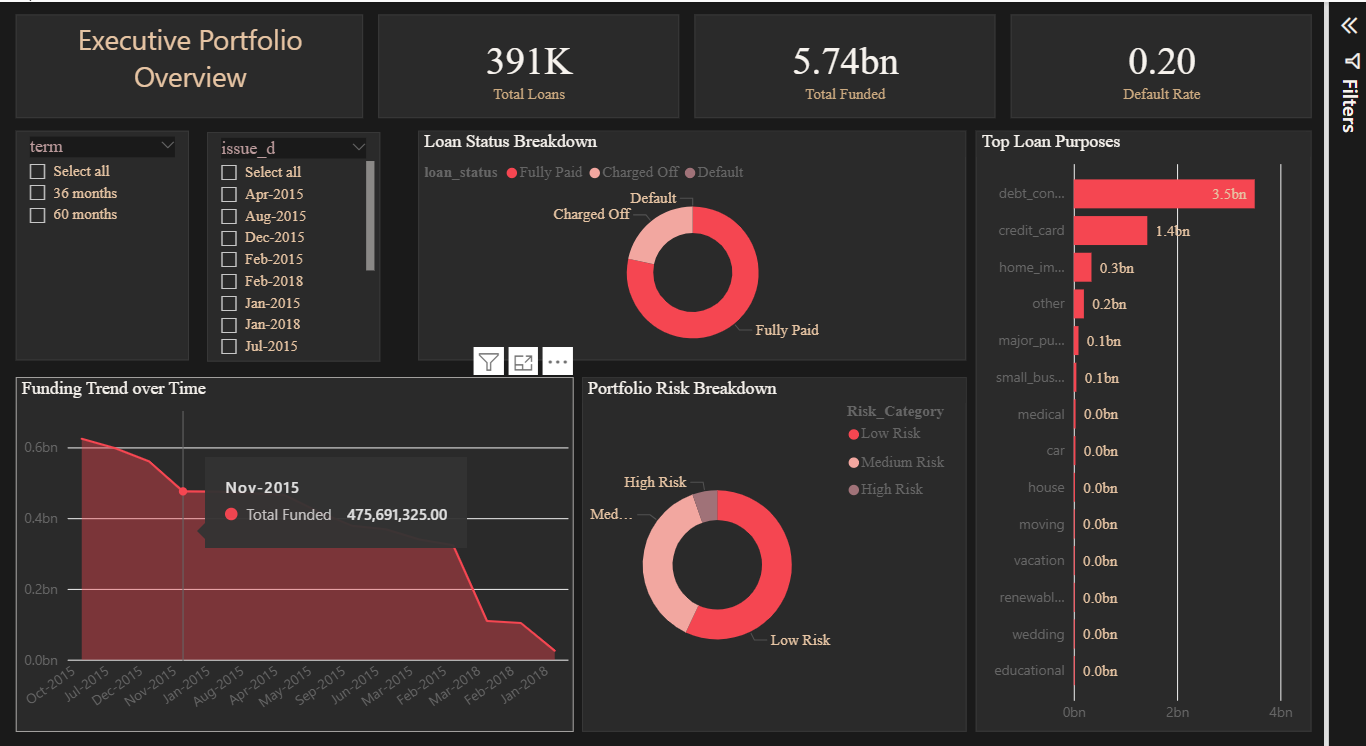

This screenshot's page, from the dashboard's own definition file:
{"tool":"powerbi","page":{"name":"Executive Portolio Overview","canvas":[1280,720],"ordinal":0},"visuals":[{"type":"textbox","box":[18,12,335,100],"z":0},{"type":"donutChart","title":"Loan Status Breakdown","fields":{"Category":["loan_portfolio.loan_status"],"Y":["Sum(loan_portfolio.loan_amnt)"]},"box":[407.1,124.3,528.6,221.4],"z":1000},{"type":"donutChart","title":"Portfolio Risk Breakdown","fields":{"Category":["loan_portfolio.Risk_Category"],"Y":["loan_portfolio.Total Loans"]},"box":[564.8,361.9,371,342.2],"z":2000},{"type":"areaChart","title":"Funding Trend over Time","fields":{"Category":["loan_portfolio.issue_d"],"Y":["loan_portfolio.Total Funded"]},"box":[18.2,361.9,537.5,342.2],"z":3000},{"type":"clusteredBarChart","title":"Top Loan Purposes","fields":{"Category":["loan_portfolio.purpose"],"Y":["loan_portfolio.Total Funded"]},"box":[945,124,324,580],"z":4000},{"type":"card","fields":{"Values":["loan_portfolio.Total Loans"]},"box":[368.1,12,290,100],"z":5000},{"type":"card","fields":{"Values":["loan_portfolio.Total Funded"]},"box":[673.1,12,290,100],"z":6000},{"type":"card","fields":{"Values":["loan_portfolio.Default Rate"]},"box":[978.2,12.1,290.7,99.9],"z":7000},{"type":"slicer","fields":{"Values":["loan_portfolio.term"]},"box":[18.6,124.3,167.1,221.4],"z":8000},{"type":"slicer","fields":{"Values":["loan_portfolio.issue_d"]},"box":[202.9,125.7,167.1,221.4],"z":9000}]}

Visuals, with their boxes on the page's 1280x720 design canvas (x1, y1, x2, y2). These are canvas units, not pixel positions in the 1366x746 screenshot, which may show the page scaled, cropped or inside an application window:
textbox: bbox(18, 12, 353, 112)
"Loan Status Breakdown" donutChart: bbox(407, 124, 936, 346)
"Portfolio Risk Breakdown" donutChart: bbox(565, 362, 936, 704)
"Funding Trend over Time" areaChart: bbox(18, 362, 556, 704)
"Top Loan Purposes" clusteredBarChart: bbox(945, 124, 1269, 704)
card - loan_portfolio.Total Loans: bbox(368, 12, 658, 112)
card - loan_portfolio.Total Funded: bbox(673, 12, 963, 112)
card - loan_portfolio.Default Rate: bbox(978, 12, 1269, 112)
slicer - loan_portfolio.term: bbox(19, 124, 186, 346)
slicer - loan_portfolio.issue_d: bbox(203, 126, 370, 347)
